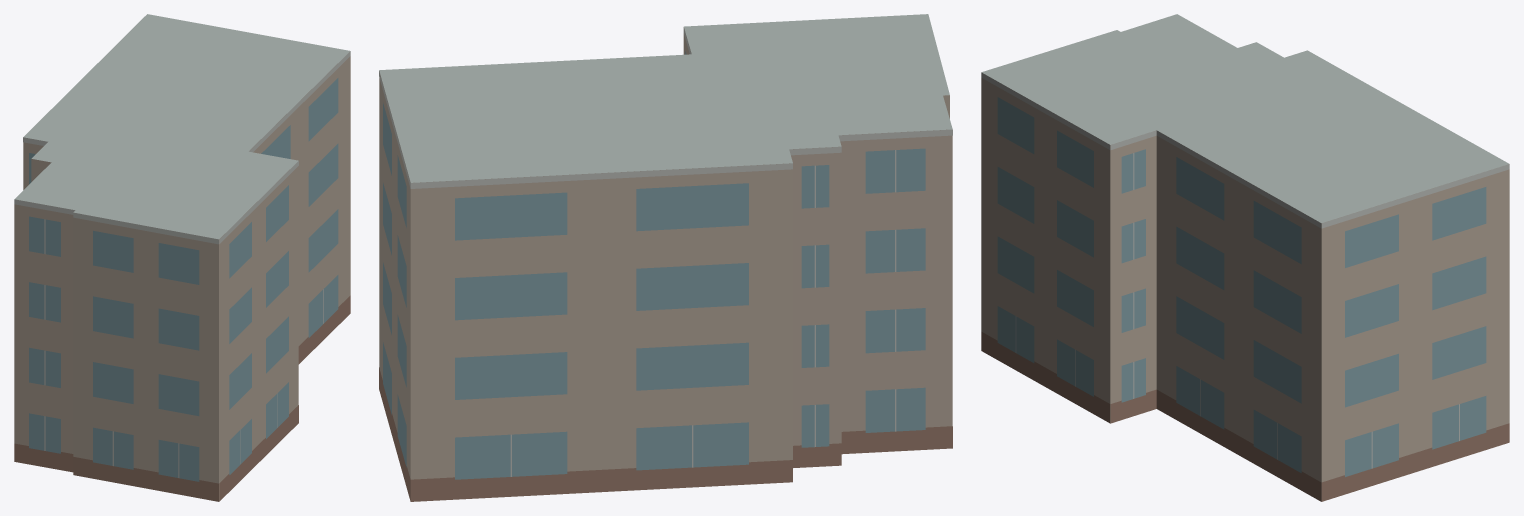
Rendered from survey-upis-32631152.glb.
3 views of the same model, side by side, from view 1: azimuth 30°, elevation 25°; view 2: azimuth 150°, elevation 25°; view 3: azimuth 270°, elevation 25° (orthographic). The views are drawn at different scales.
Visible parts, largest first — view 1: survey-upis-32631152.tmp; view 2: survey-upis-32631152.tmp; view 3: survey-upis-32631152.tmp.
Boxes of the visible parts, x1=… form: survey-upis-32631152.tmp: x1=14, y1=14, x2=350, y2=501; survey-upis-32631152.tmp: x1=379, y1=14, x2=952, y2=501; survey-upis-32631152.tmp: x1=981, y1=14, x2=1509, y2=501.
Bounding box in the file's own units: 20.47 × 12.7 × 21.84.
